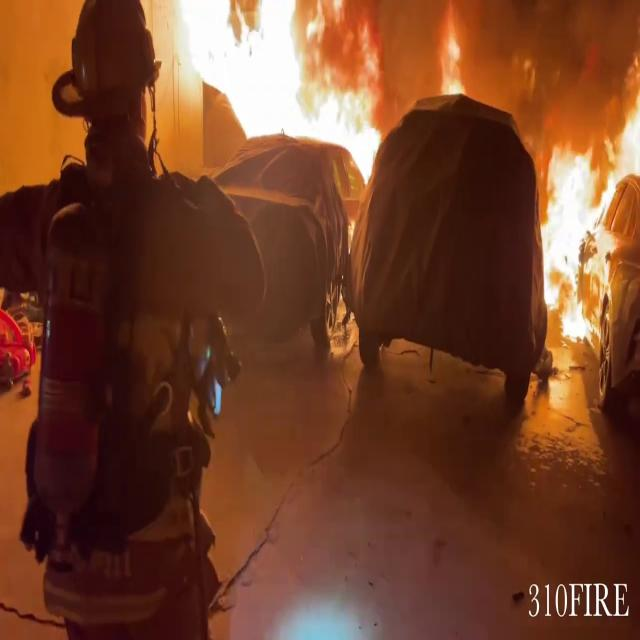Fire: (536, 22, 640, 368), (151, 0, 379, 155), (431, 0, 469, 96)
